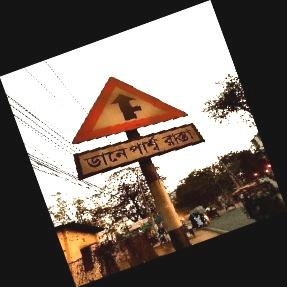Side-road-right: (71, 72, 204, 174)
